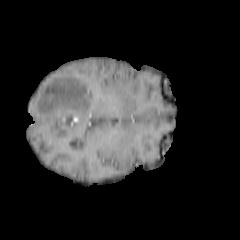glioma: (34, 76, 92, 118)
